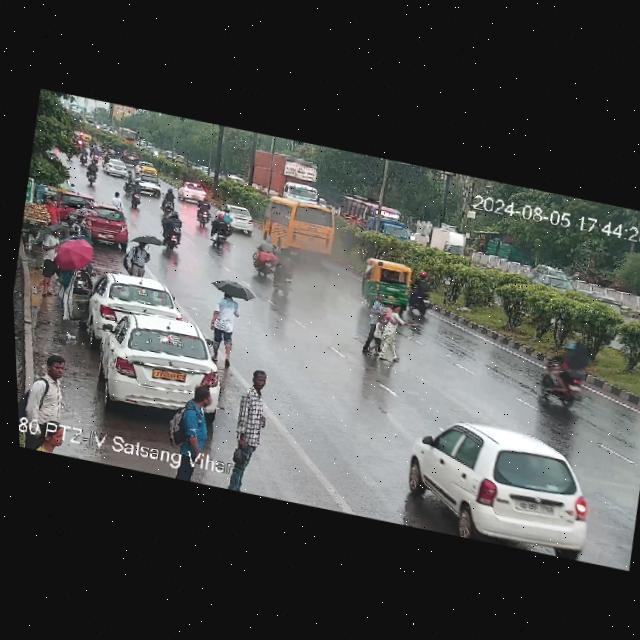bus: (258, 192, 343, 260), (336, 193, 414, 241), (114, 122, 143, 149)
car: (398, 409, 608, 562), (80, 289, 231, 421), (78, 265, 189, 358), (356, 255, 418, 313), (76, 201, 134, 250), (48, 187, 97, 224), (218, 202, 260, 236), (177, 180, 212, 207), (104, 160, 132, 180), (137, 162, 161, 181)
motorcycle: (530, 330, 600, 419), (405, 263, 441, 320), (250, 236, 282, 282), (158, 208, 188, 253), (206, 211, 233, 255), (192, 194, 216, 231), (157, 182, 181, 216), (80, 156, 104, 189), (125, 178, 145, 211)
person: (220, 361, 288, 497), (15, 347, 79, 455), (162, 382, 222, 468), (27, 216, 74, 296), (350, 286, 395, 366), (204, 292, 247, 365), (370, 300, 410, 368), (120, 234, 154, 278)
truck: (240, 146, 325, 204)
